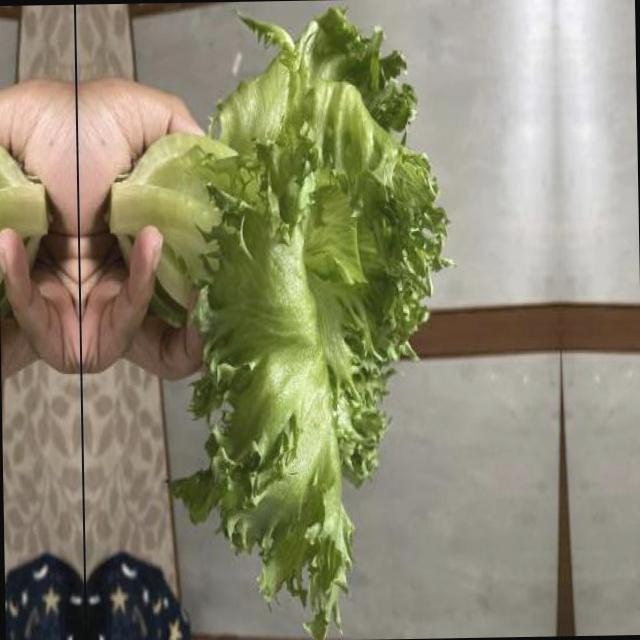healthy: (110, 1, 464, 640), (0, 8, 49, 640)
